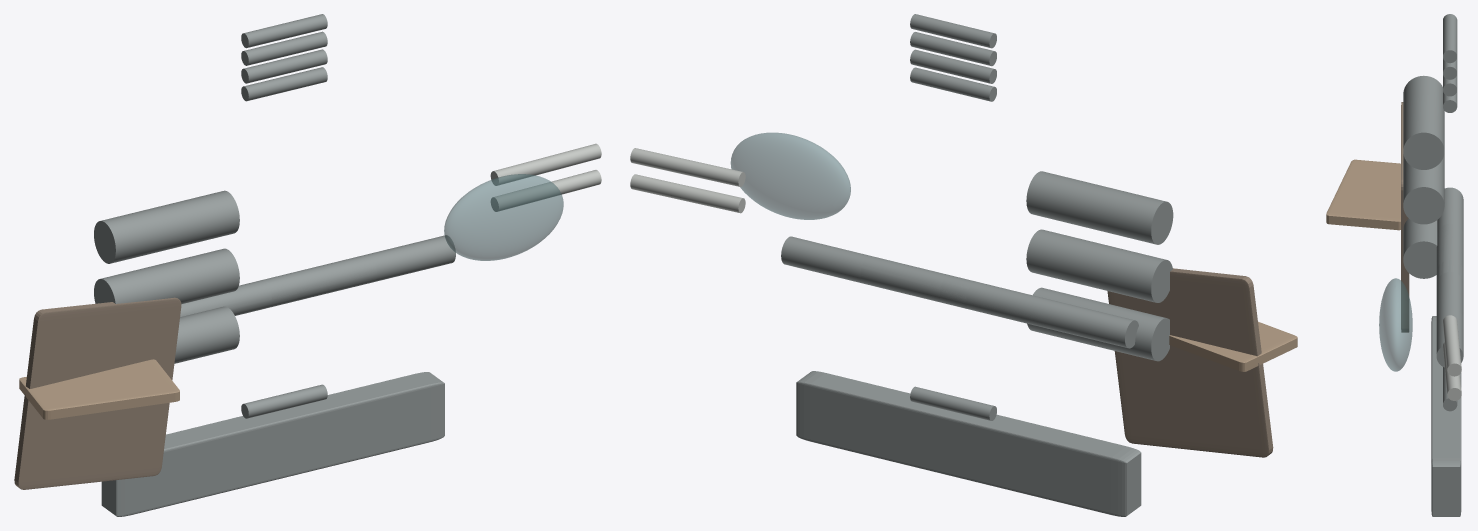
Rendered from d-u30-dominion-aerial-artillery-lod2.glb.
3 renders of one model, left to right at view 1: azimuth 30°, elevation 25°; view 2: azimuth 150°, elevation 25°; view 3: azimuth 270°, elevation 25°, orthographic. The views are drawn at different scales.
Visible parts, largest first — view 1: artillery_pod_-1, combat_tailplane_-1, combat_canopy, combat_engine_2, combat_fin_-1, combat_engine_1, aerial_launcher_4, aerial_launcher_2, combat_engine_0, combat_gun_barrel_1, combat_gun_barrel_0, combat_1_tube_2 (+5 smaller); view 2: artillery_pod_-1, combat_tailplane_-1, combat_canopy, combat_engine_2, combat_engine_1, aerial_launcher_0, aerial_launcher_4, combat_engine_0, aerial_launcher_2, combat_fin_-1, combat_gun_barrel_0, combat_gun_barrel_1 (+5 smaller); view 3: combat_fin_-1, artillery_pod_-1, combat_engine_2, combat_canopy, combat_engine_1, combat_engine_0, aerial_launcher_4, aerial_launcher_0, combat_tailplane_-1, combat_gun_barrel_1, aerial_launcher_2, combat_1_tube_4 (+5 smaller).
Boxes of the visible parts, <box> form: artillery_pod_-1: <box>101,372,444,516</box>; combat_tailplane_-1: <box>14,297,181,489</box>; combat_canopy: <box>444,174,563,260</box>; combat_engine_2: <box>94,190,239,263</box>; combat_fin_-1: <box>19,359,179,419</box>; combat_engine_1: <box>94,248,239,304</box>; aerial_launcher_4: <box>263,235,455,307</box>; aerial_launcher_2: <box>188,254,376,315</box>; combat_engine_0: <box>174,306,239,363</box>; combat_gun_barrel_1: <box>490,143,601,185</box>; combat_gun_barrel_0: <box>491,170,601,211</box>; combat_1_tube_2: <box>241,49,327,83</box>; artillery_pod_-1: <box>796,371,1141,516</box>; combat_tailplane_-1: <box>1107,268,1273,457</box>; combat_canopy: <box>730,132,850,219</box>; combat_engine_2: <box>1026,171,1173,244</box>; combat_engine_1: <box>1026,229,1172,302</box>; aerial_launcher_0: <box>939,277,1138,348</box>; aerial_launcher_4: <box>781,236,974,308</box>; combat_engine_0: <box>1027,287,1169,361</box>; aerial_launcher_2: <box>860,256,1052,327</box>; combat_fin_-1: <box>1169,321,1297,371</box>; combat_gun_barrel_0: <box>630,174,745,213</box>; combat_gun_barrel_1: <box>630,148,745,186</box>; combat_fin_-1: <box>1326,159,1400,230</box>; artillery_pod_-1: <box>1431,316,1461,516</box>; combat_engine_2: <box>1403,75,1444,169</box>; combat_canopy: <box>1379,278,1412,371</box>; combat_engine_1: <box>1403,153,1444,224</box>; combat_engine_0: <box>1403,218,1437,278</box>; aerial_launcher_4: <box>1436,260,1463,367</box>; aerial_launcher_0: <box>1436,187,1463,276</box>; combat_tailplane_-1: <box>1401,102,1409,332</box>; combat_gun_barrel_1: <box>1443,315,1461,376</box>; aerial_launcher_2: <box>1436,223,1463,316</box>; combat_1_tube_4: <box>1443,14,1457,63</box>.
Size of what is drawn, in the model's own units: 16.01 by 11.2 by 3.33.
